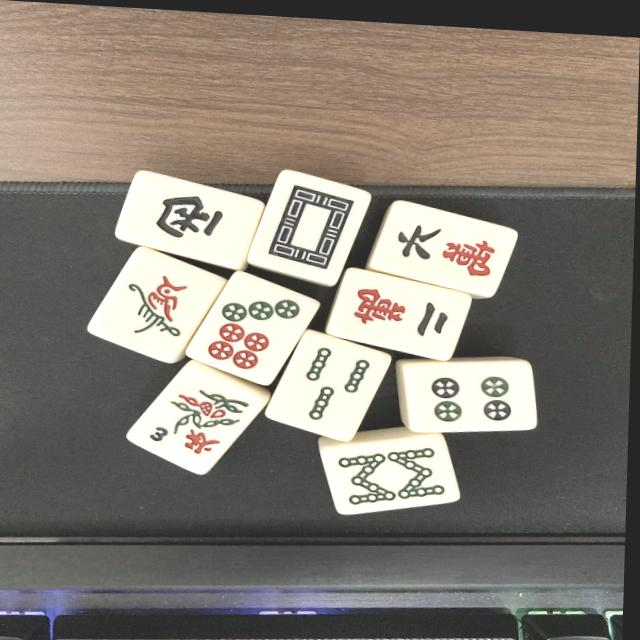bai: (248, 171, 372, 292)
ff3: (133, 366, 262, 479)
m2: (328, 268, 468, 360)
m6: (368, 200, 514, 297)
s1: (100, 249, 220, 365)
s3: (265, 330, 389, 444)
s8: (330, 435, 454, 516)
t4: (402, 353, 541, 439)
t7: (188, 268, 312, 389)
west: (130, 174, 261, 258)
